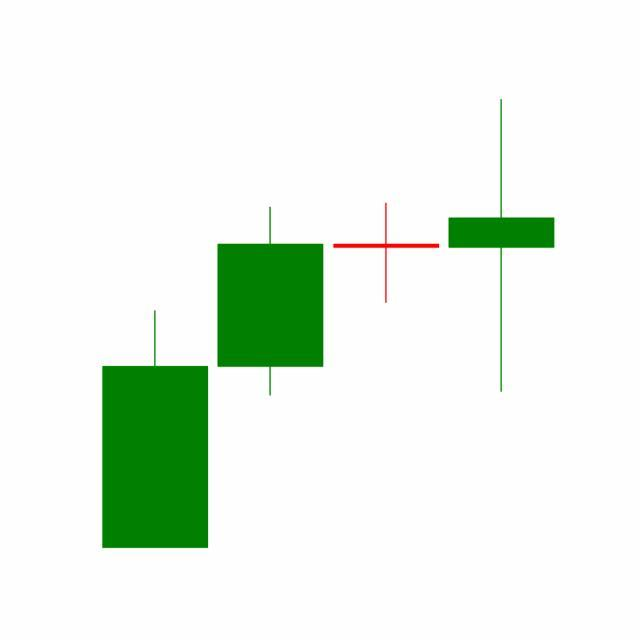Spinning Top: (444, 96, 560, 396)
